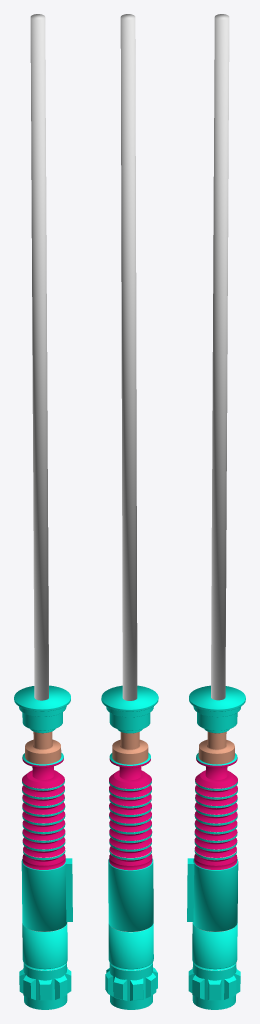
File: Lightsaber.fbx
The picture shows the model from 3 angles, left to right: view 1: azimuth 90°, elevation 25°; view 2: azimuth 150°, elevation 25°; view 3: azimuth 270°, elevation 25°; orthographic projection.
Parts seen in each view (by area): view 1: Cylinder; view 2: Cylinder; view 3: Cylinder.
Boxes of the visible parts, x1,y1,x2,y2 form: Cylinder: (14,14,72,1009); Cylinder: (101,14,158,1009); Cylinder: (187,14,245,1009).
Bounding box in the file's own units: 76.75 × 1461 × 79.17.
